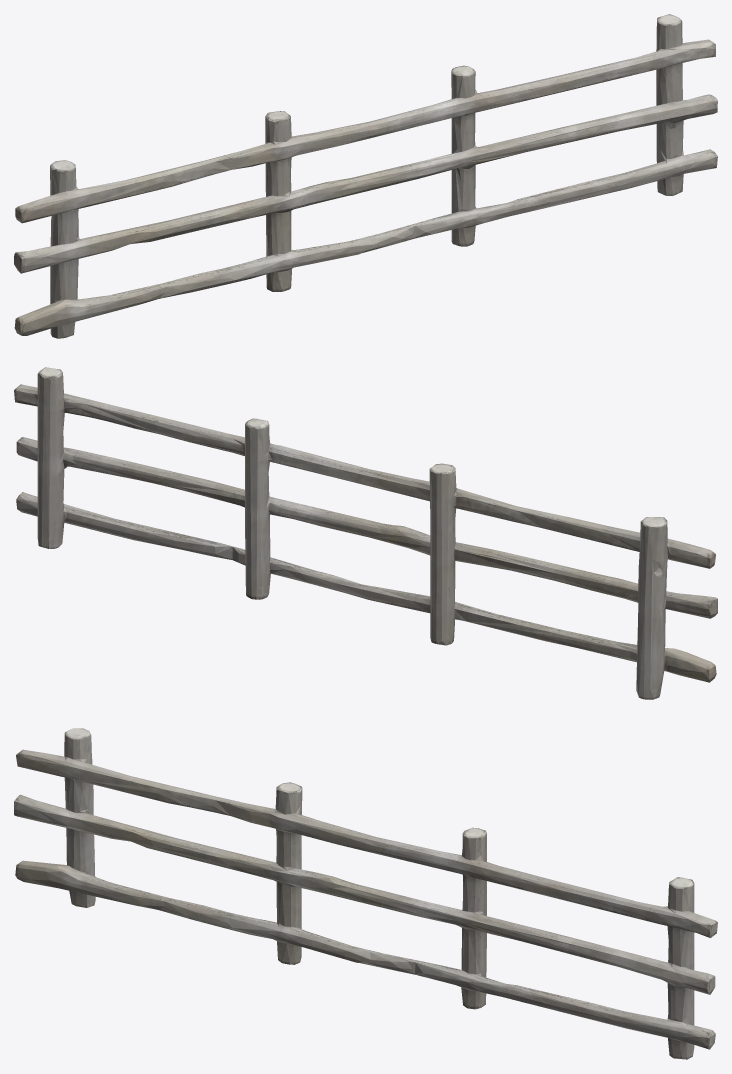
The model's file is wood_fence.glb.
3 views of the same model, one above another, from view 1: azimuth 30°, elevation 25°; view 2: azimuth 150°, elevation 25°; view 3: azimuth 330°, elevation 25° (orthographic).
Parts seen in each view (by area): view 1: geometry_0; view 2: geometry_0; view 3: geometry_0.
Boxes of the visible parts, box(x1,y1,x2,y2) form: geometry_0: box(14, 14, 717, 338); geometry_0: box(14, 367, 717, 699); geometry_0: box(14, 728, 717, 1059).
Bounding box in the file's own units: 1 × 0.2386 × 0.0552.
Materials: 1 (1 with a texture image).
